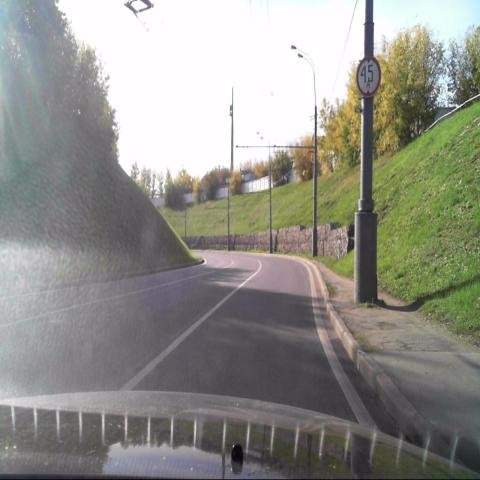3_13: (354, 53, 382, 101)
